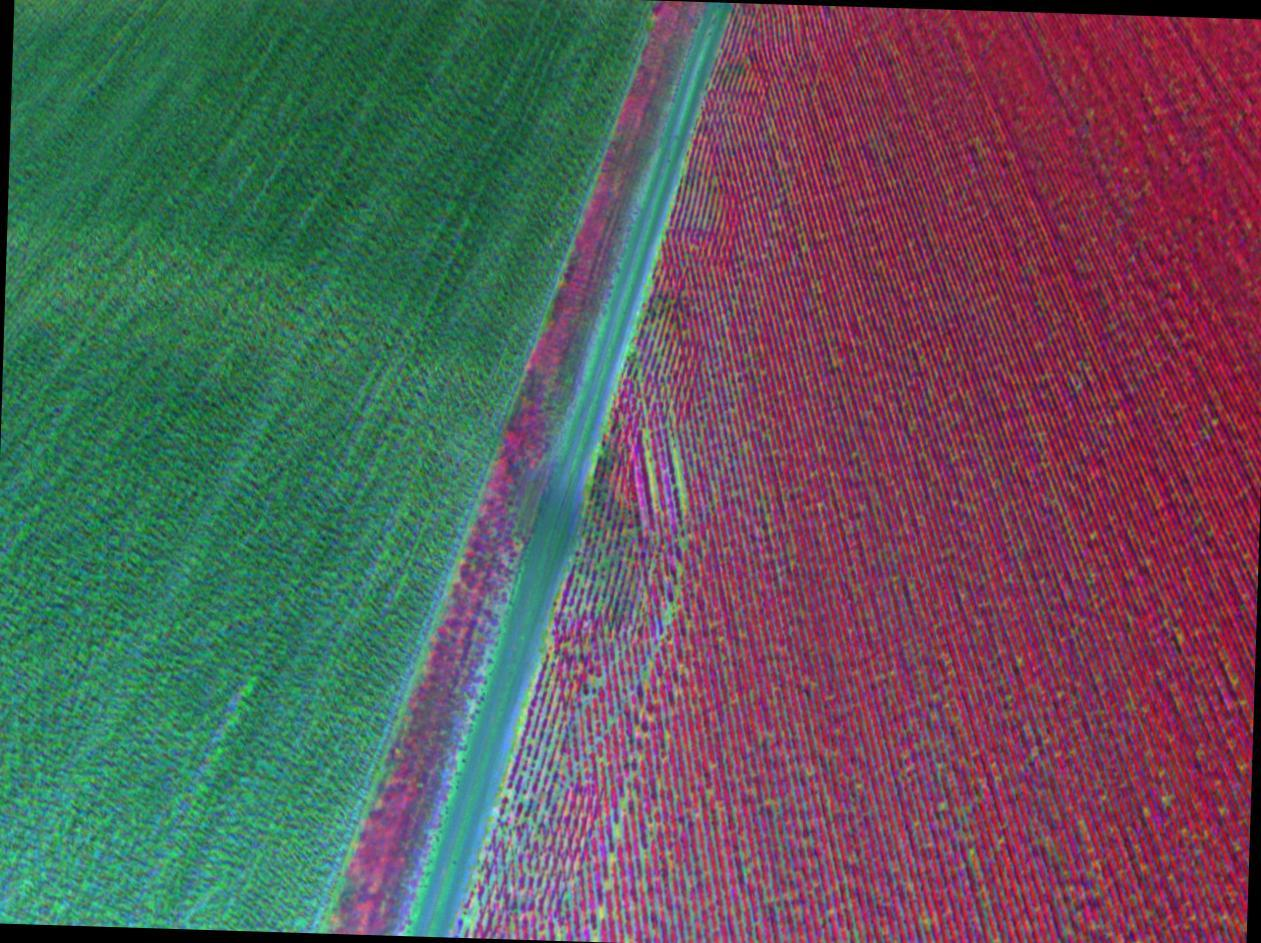dc: (672, 449, 680, 463), (1163, 799, 1170, 805), (1091, 532, 1096, 537), (1195, 519, 1201, 523)
